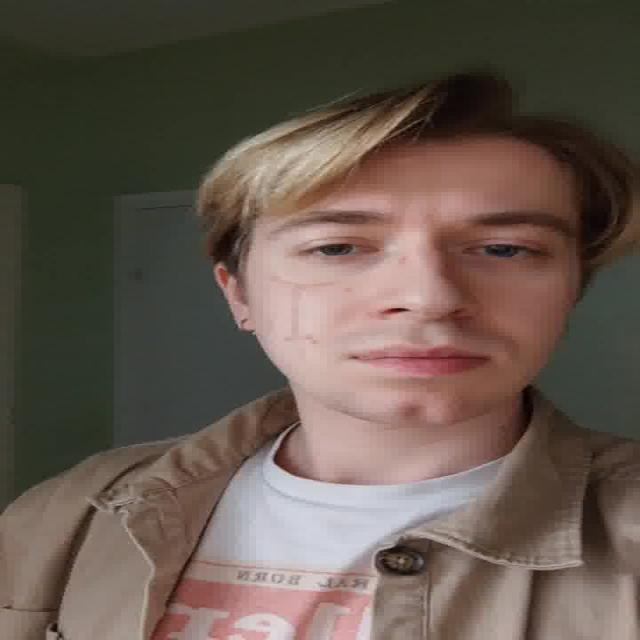earlobe: (213, 262, 257, 333)
